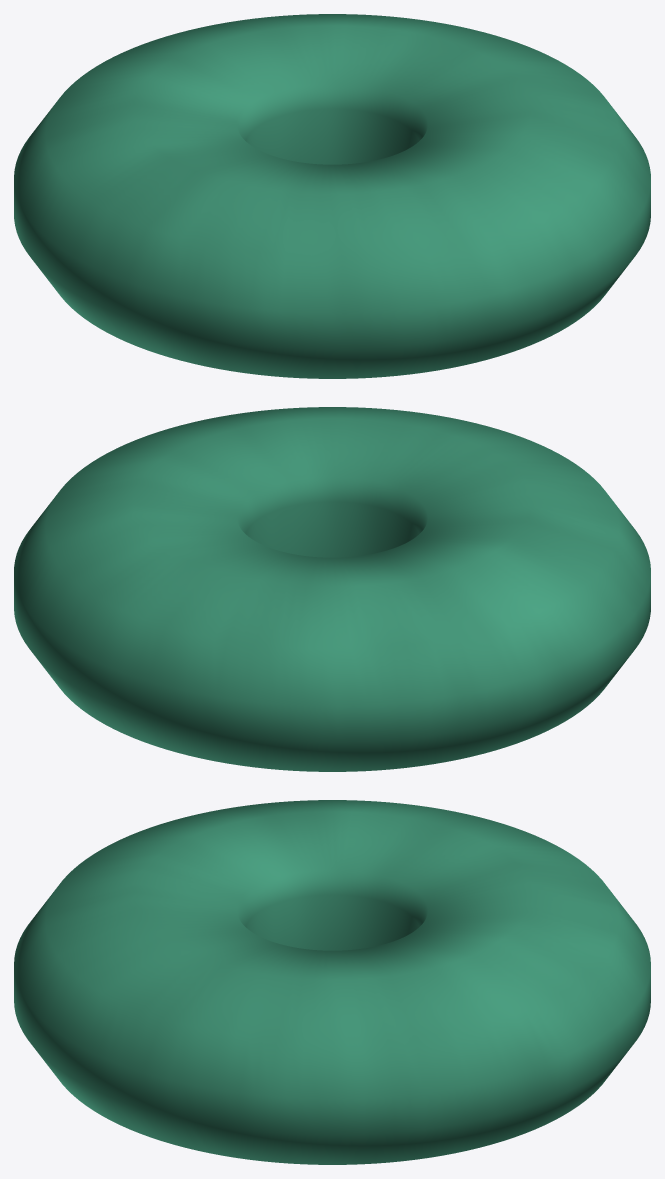
The model's file is peace-disc.glb.
The picture shows the model from 3 angles, top to bottom: view 1: azimuth 30°, elevation 25°; view 2: azimuth 150°, elevation 25°; view 3: azimuth 270°, elevation 25°; orthographic projection.
Parts seen in each view (by area): view 1: peace-disc; view 2: peace-disc; view 3: peace-disc.
Part boxes in pixels (x1,y1,x2,y2): peace-disc: [14, 14, 650, 378]; peace-disc: [14, 407, 650, 771]; peace-disc: [14, 800, 650, 1164].
Bounding box in the file's own units: 0.008 × 0.0024 × 0.008.
